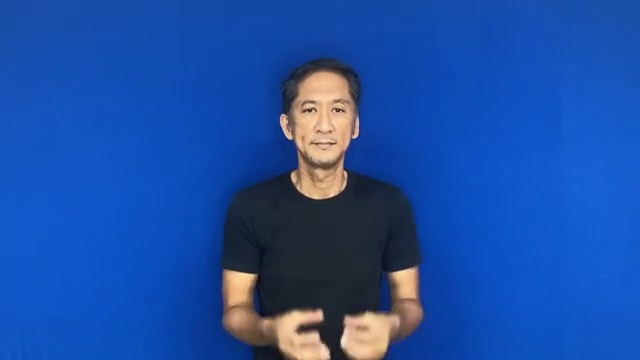egg: (252, 297, 405, 360)
